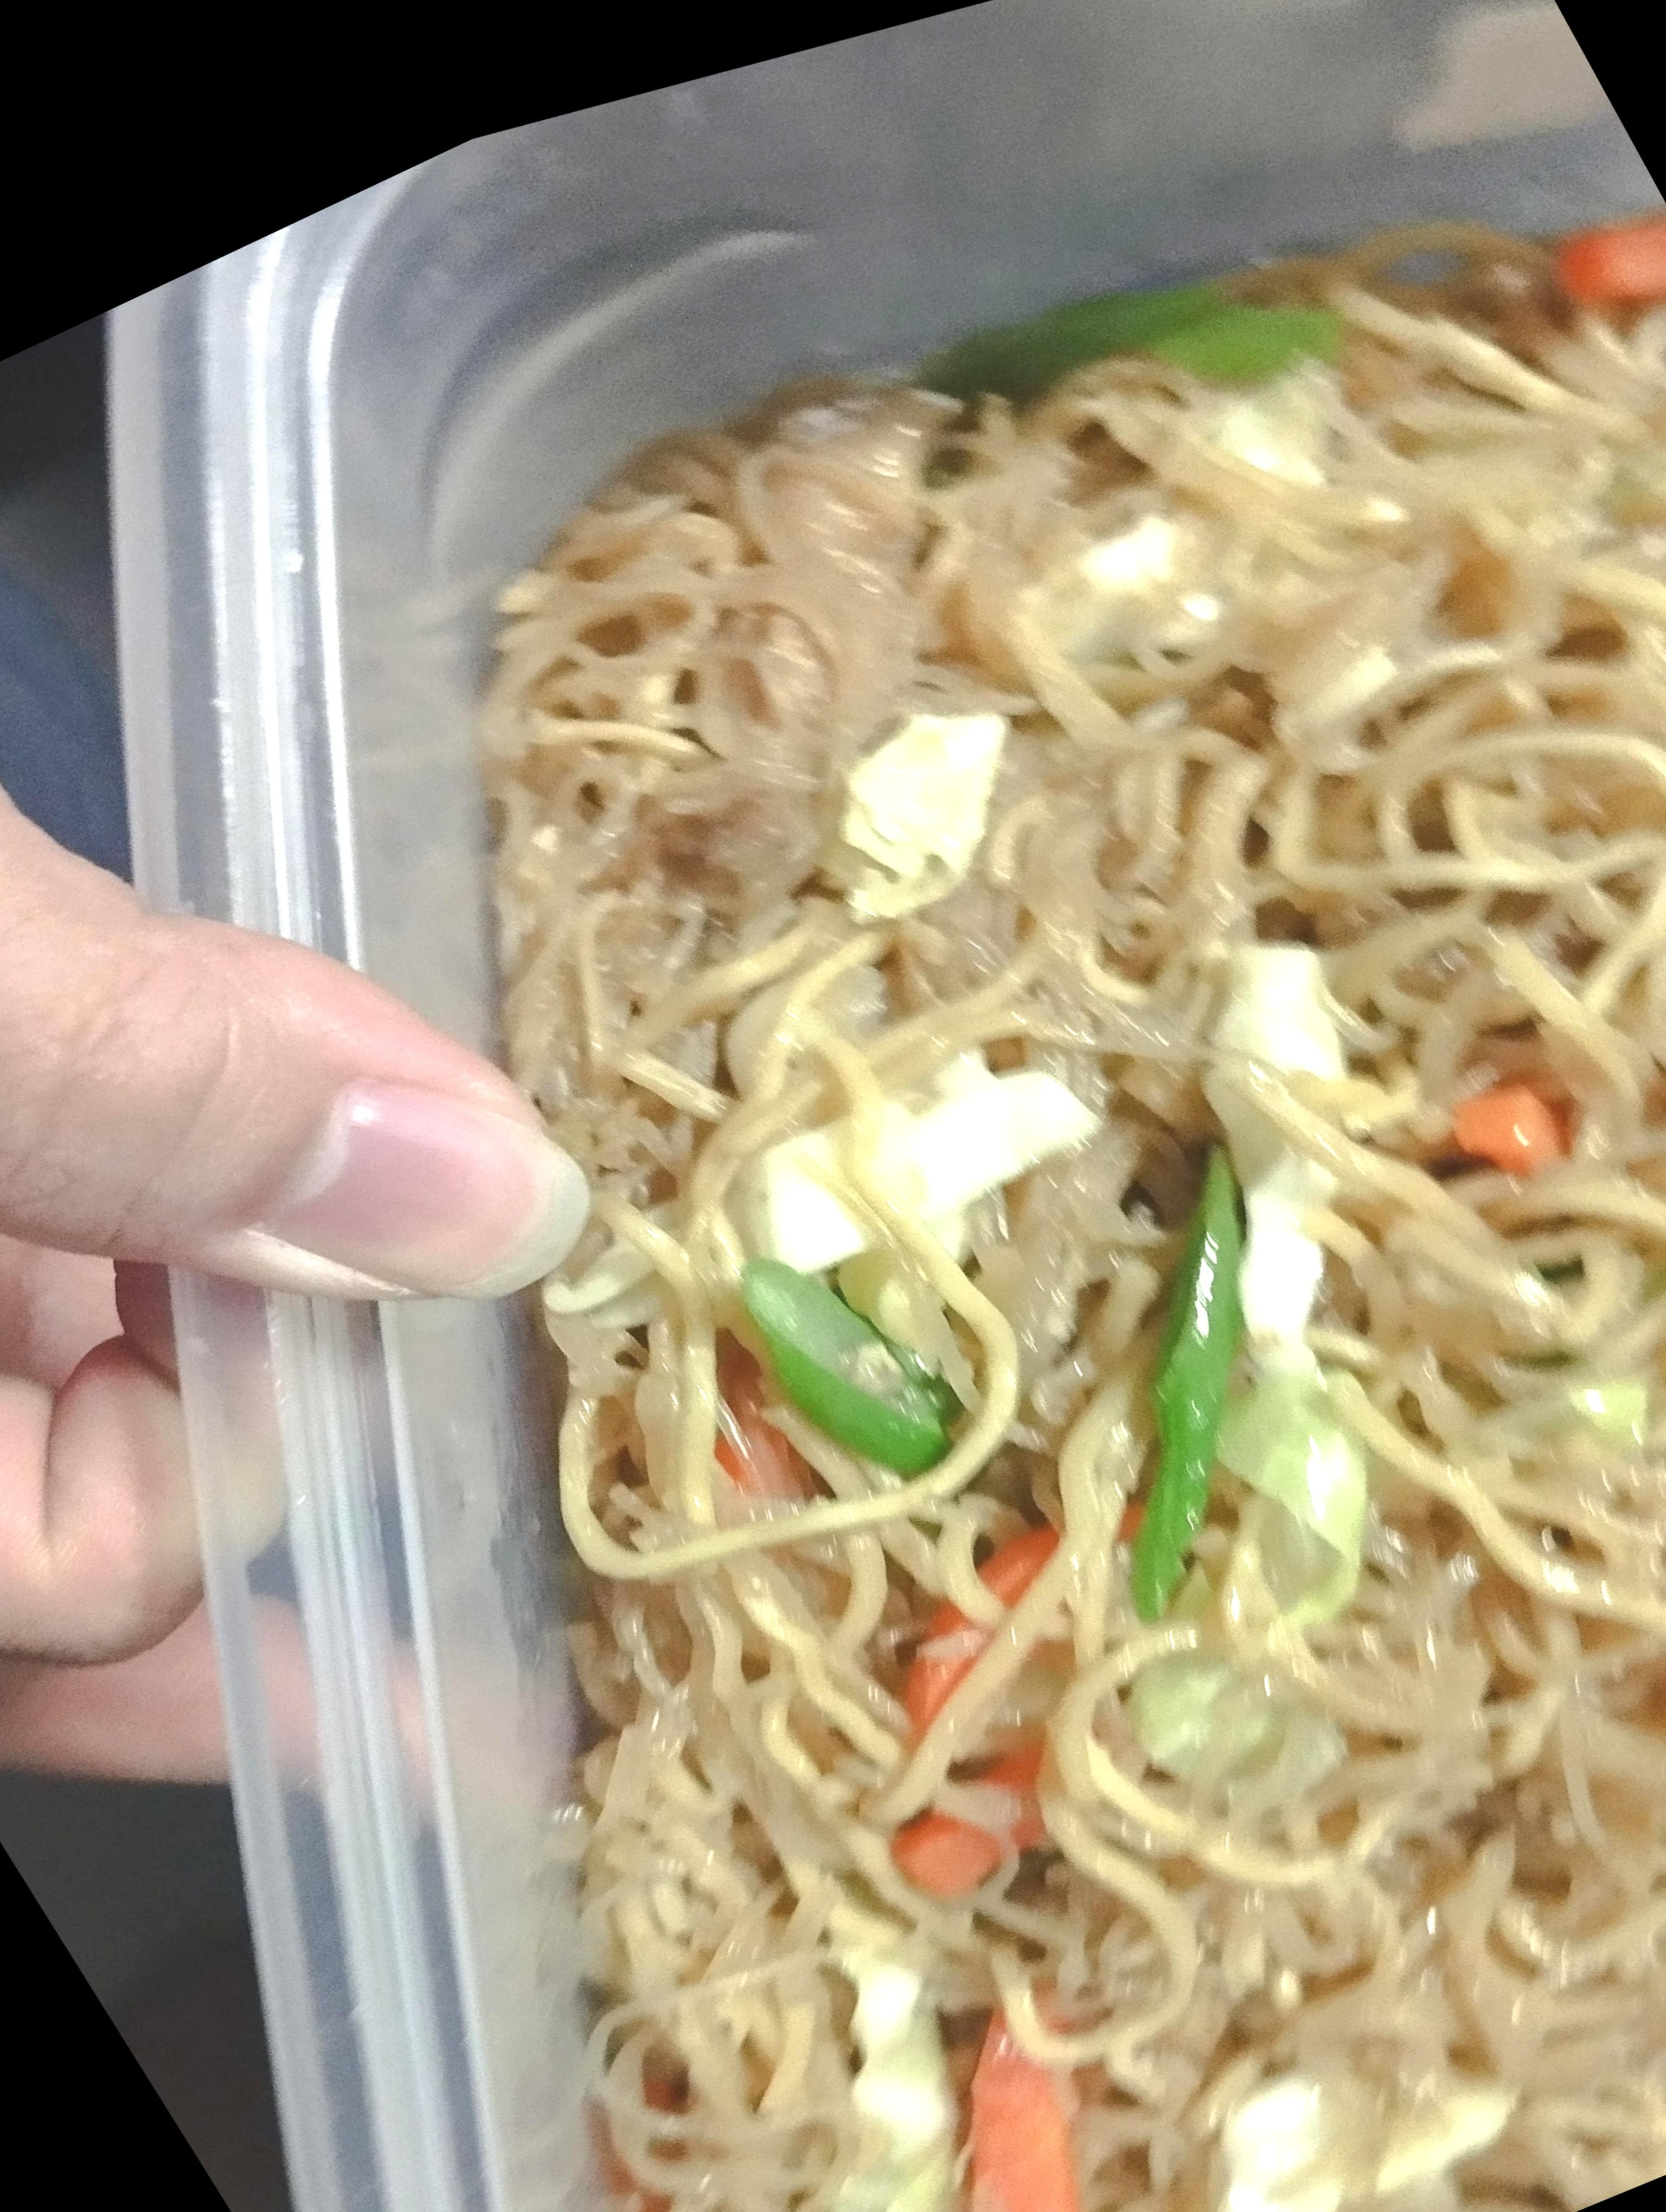pancit bihon: (487, 166, 1666, 2209)
